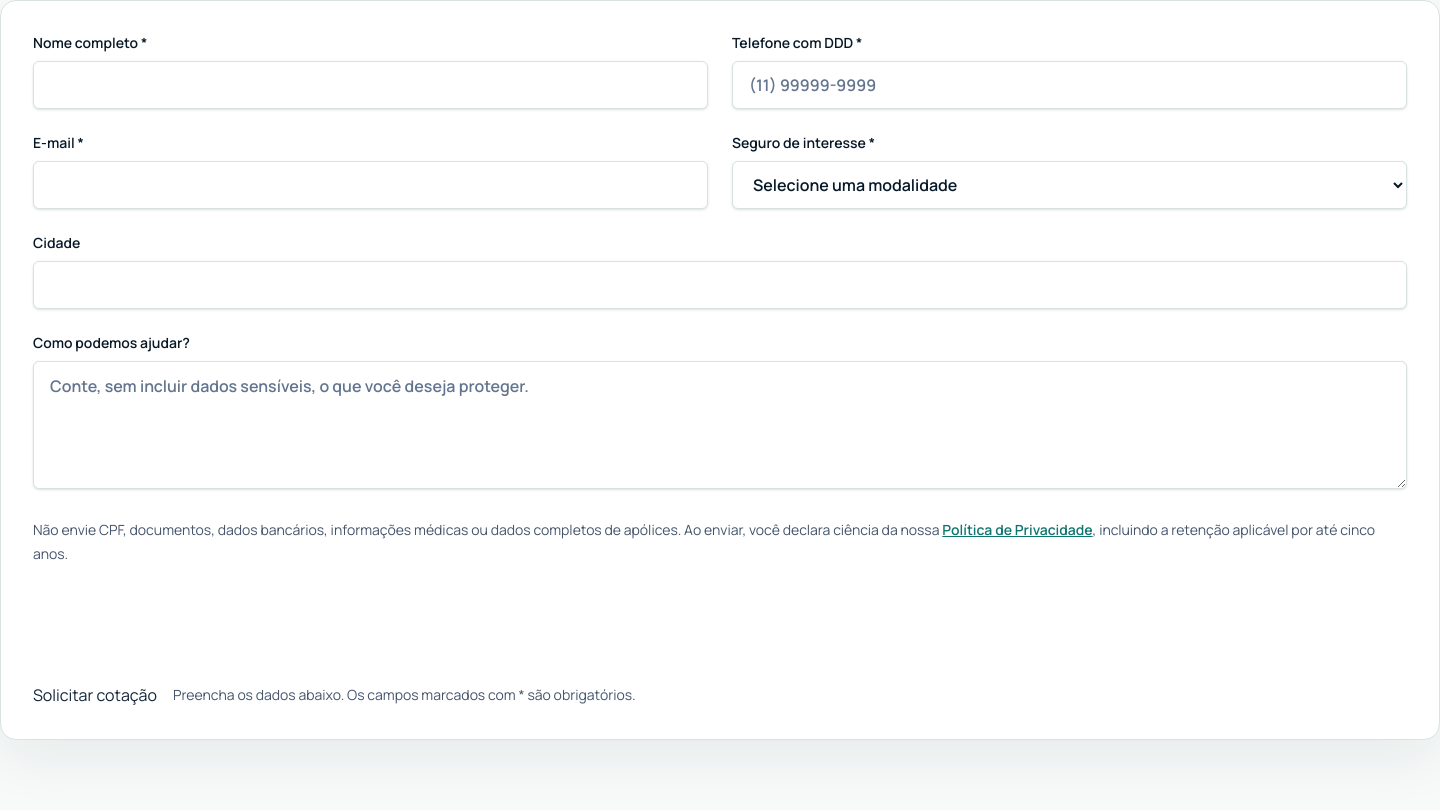
Test: QuoteForm › orienta a confirmar a verificação antes do envio
The image size is (1440, 810).
Type "Pessoa Exemplo" into the field labelled "Nome completo *".
click(370, 85); type("Pessoa Exemplo")  # box [33,61,708,109]
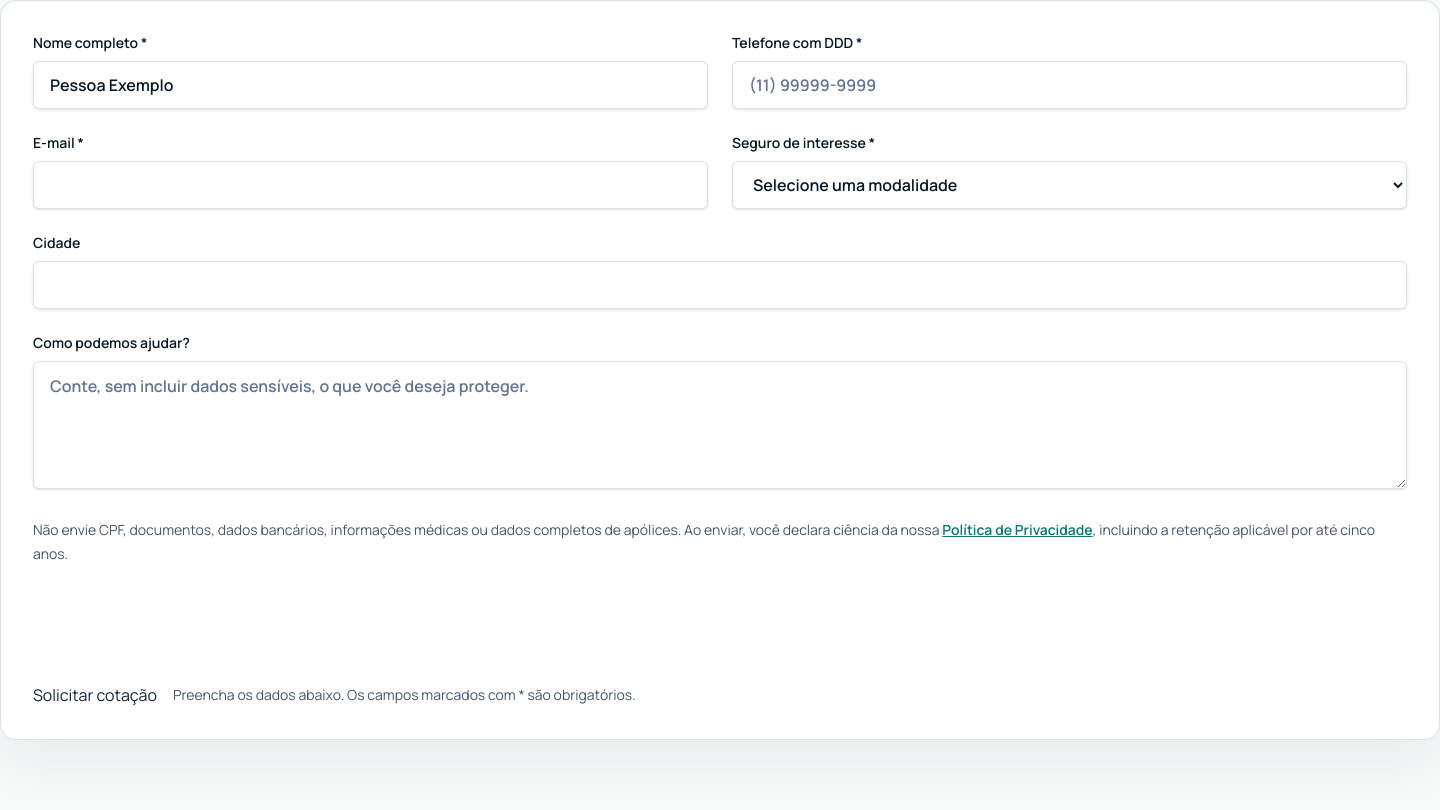
Type "(11) 99999-0000" into the field labelled "Telefone com DDD *".
click(1070, 85); type("(11) 99999-0000")  # box [732,61,1407,109]
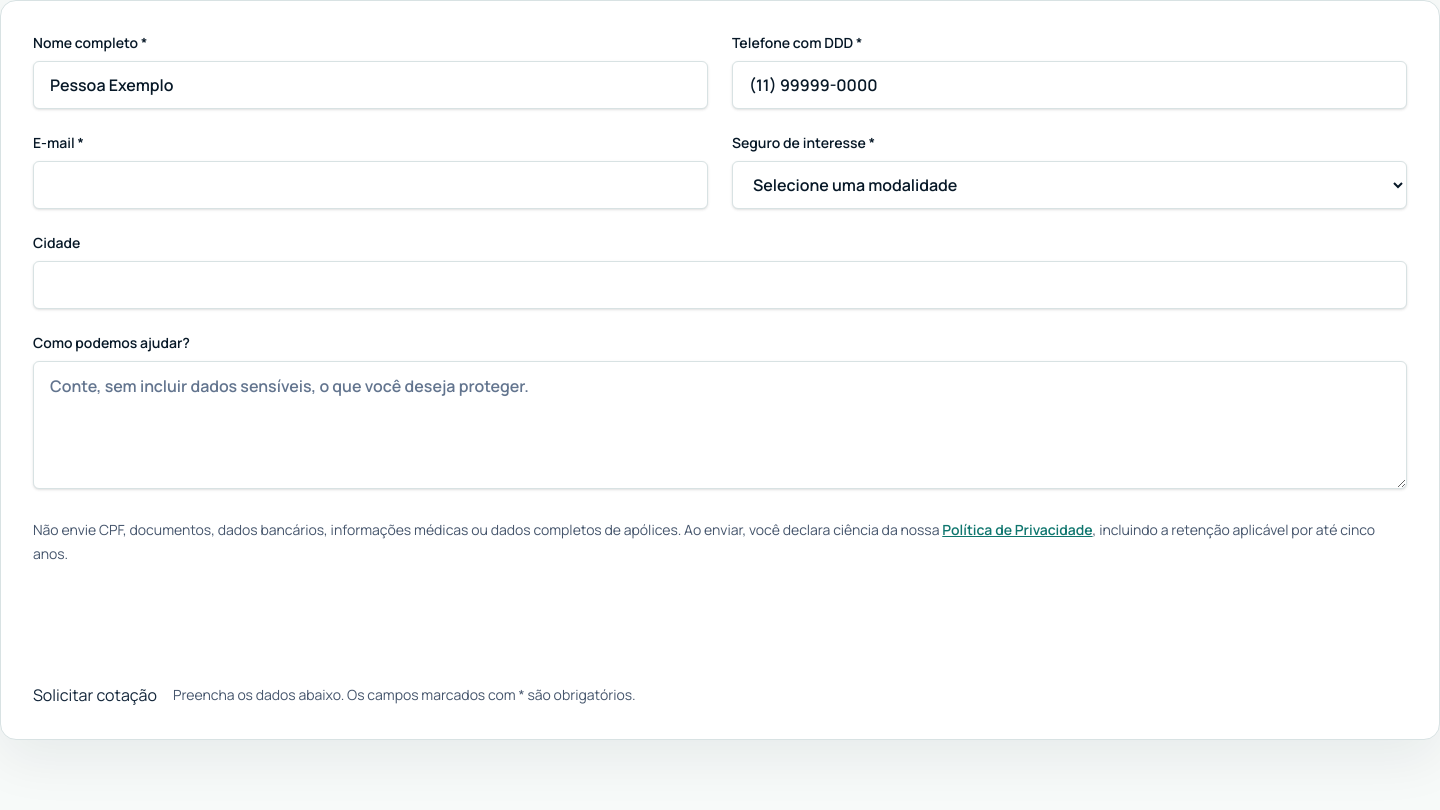
Type "pessoa@example.invalid" into the field labelled "E-mail *".
click(370, 185); type("pessoa@example.invalid")  # box [33,161,708,209]
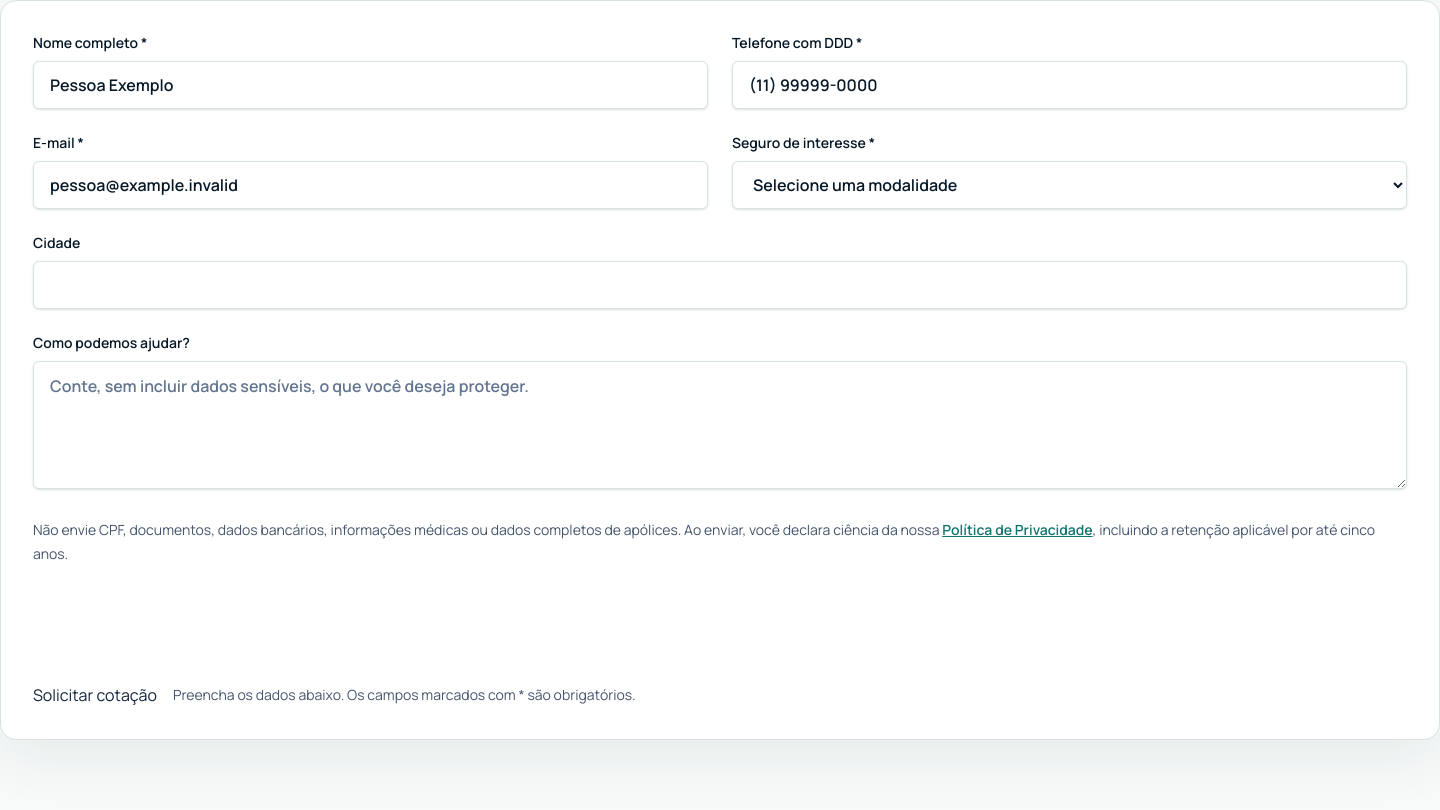
Select "Seguro Auto" in the dropdown labelled "Seguro de interesse *" at [1070, 185], box [732,161,1407,209]
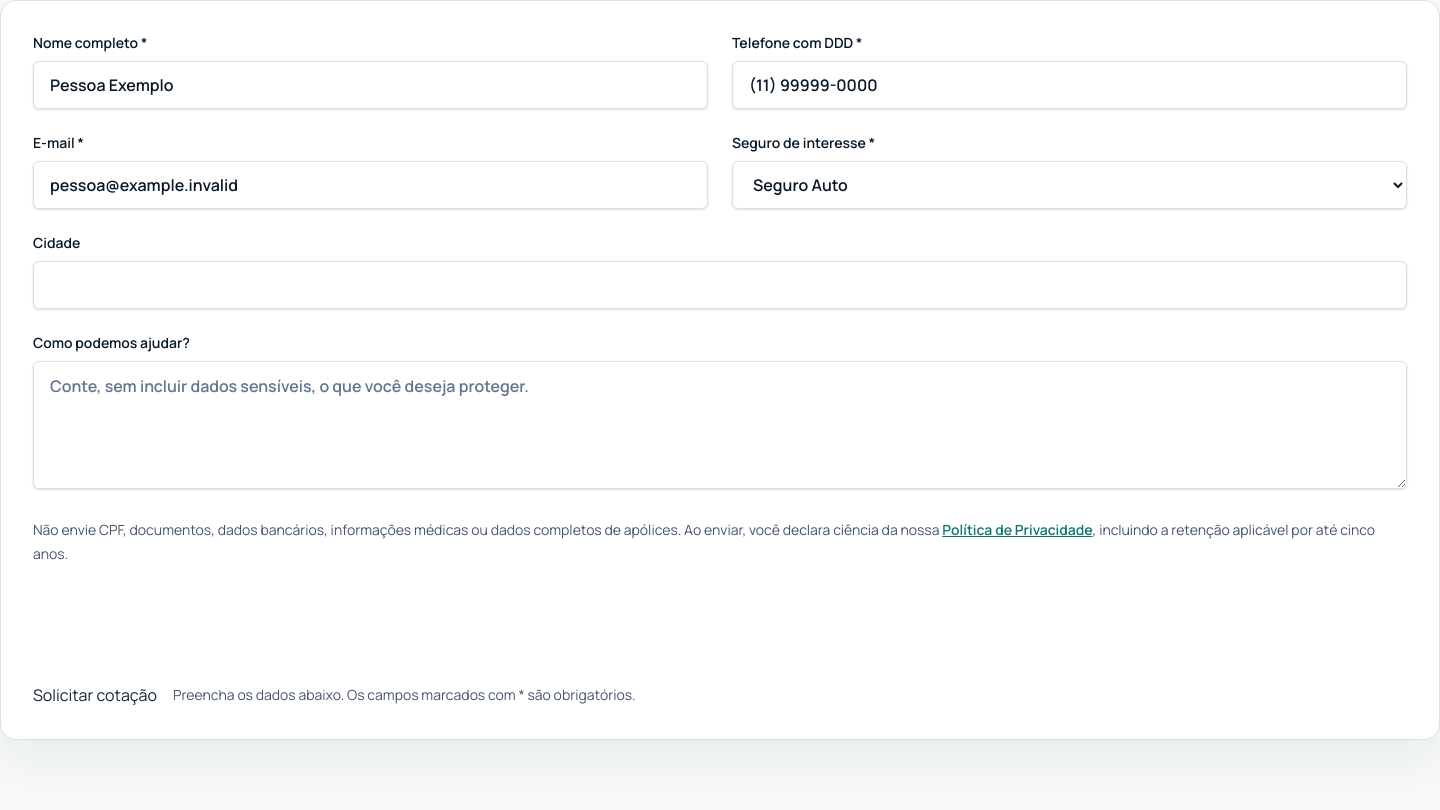
Click the button "Solicitar cotação".
click(95, 695)  # box [33,683,157,707]
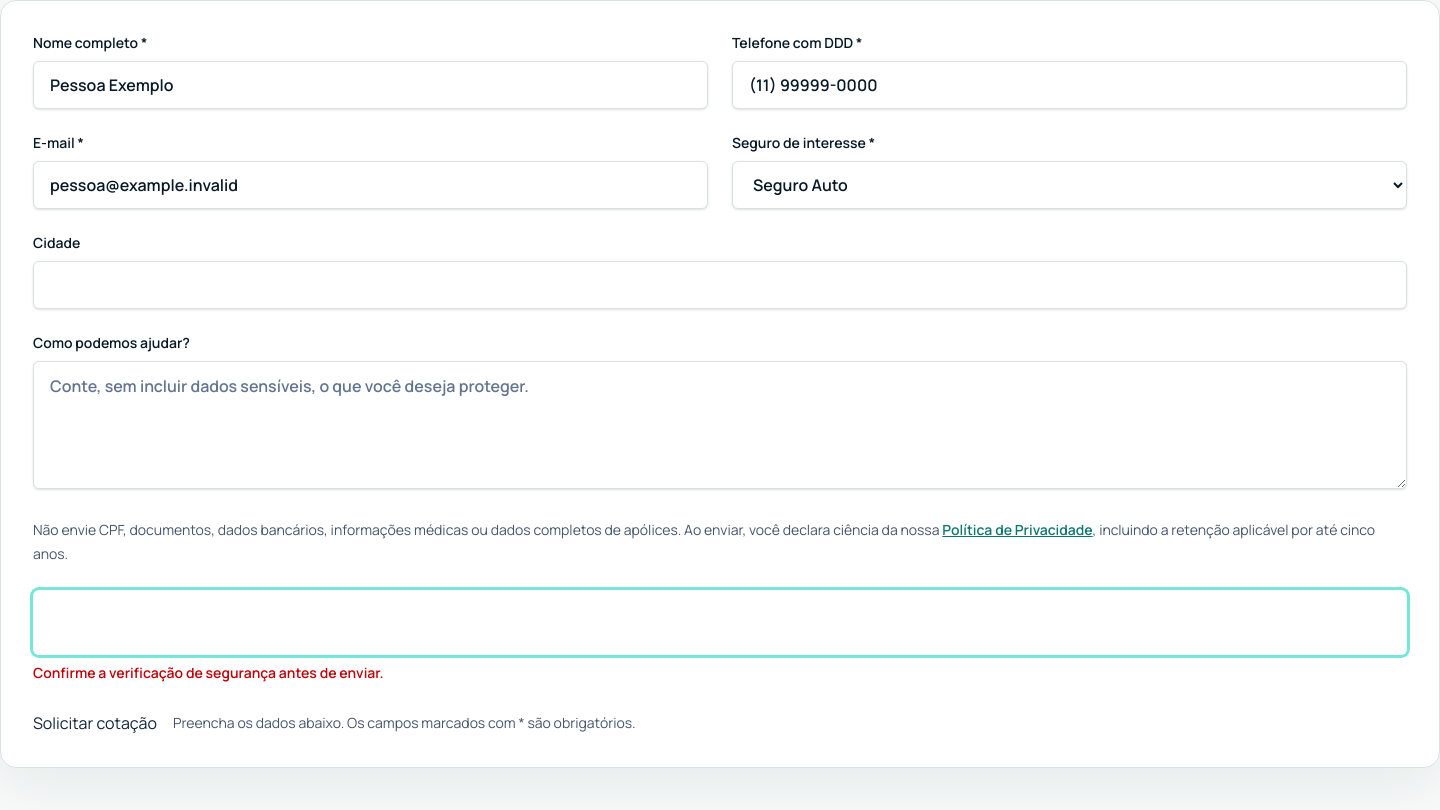
Now the message "Confirme a verificação de segurança antes de enviar." is shown, box [33,663,384,682]
